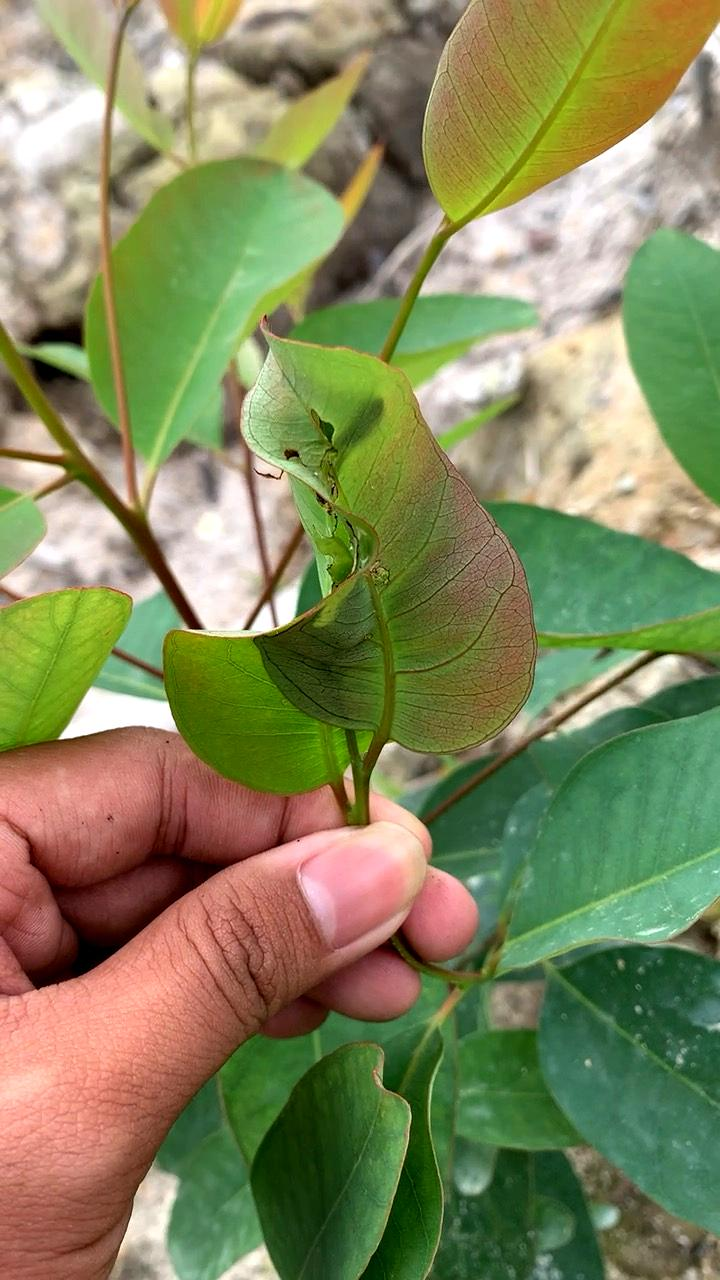Leaf Roller - Leaf: (159, 303, 543, 830)
